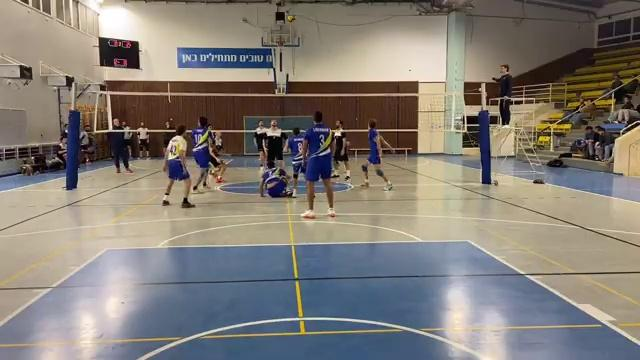ball: (286, 12, 298, 25)
